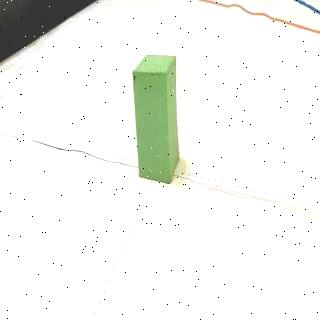greenbox: (132, 53, 182, 184)
